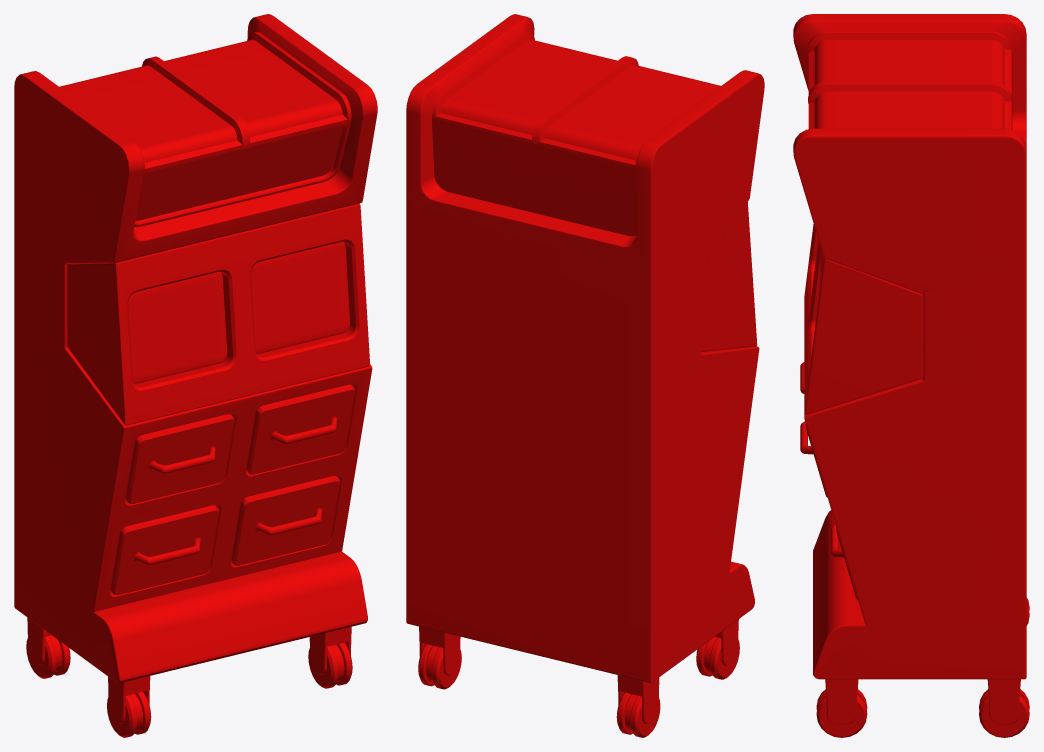
Rendered from Equipment_3.fbx.
3 views of the same model, side by side, from view 1: azimuth 30°, elevation 25°; view 2: azimuth 150°, elevation 25°; view 3: azimuth 270°, elevation 25° (orthographic). The views are drawn at different scales.
Visible parts, largest first — view 1: polySurface11; view 2: polySurface11; view 3: polySurface11.
Part boxes in pixels (bbox=[...]): polySurface11: bbox=[14, 14, 377, 737]; polySurface11: bbox=[406, 14, 764, 737]; polySurface11: bbox=[793, 14, 1029, 737].
Bounding box in the file's own units: 66.77 × 155 × 54.34.
